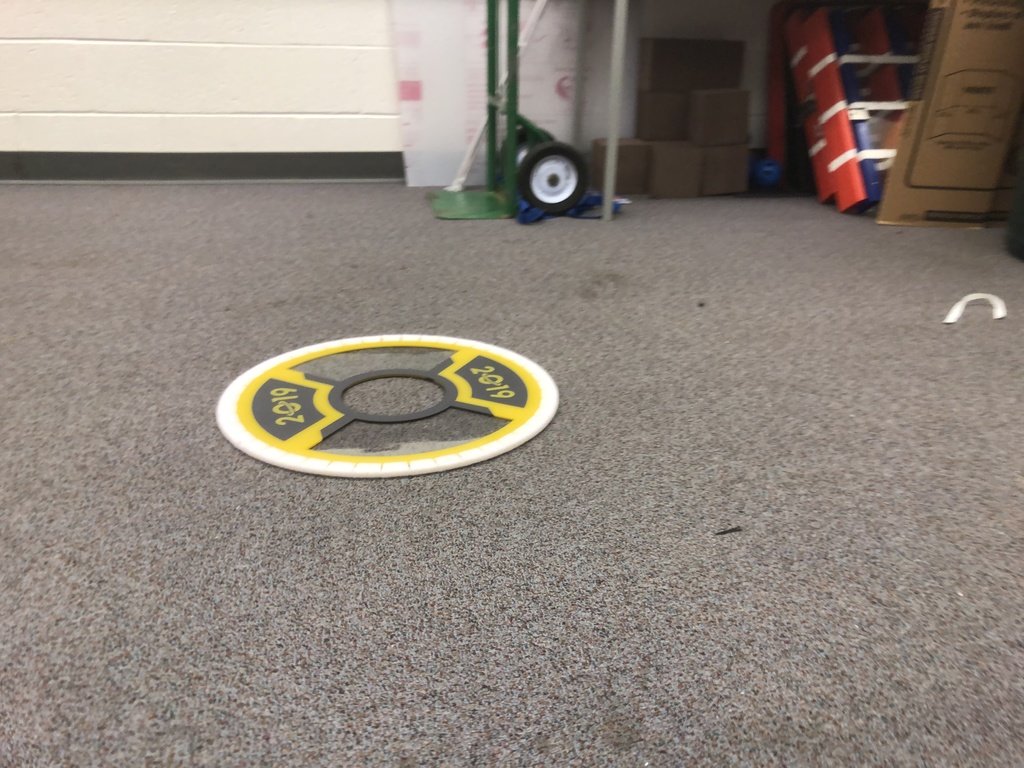hatch_panel: (205, 326, 607, 487)
